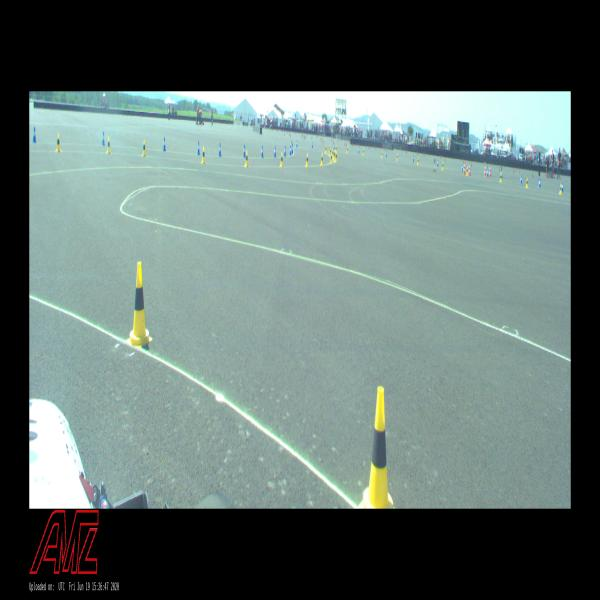blue_cone: (32, 127, 36, 143), (218, 143, 222, 156), (242, 145, 246, 158), (102, 131, 105, 146), (197, 141, 200, 155), (163, 137, 166, 151), (261, 145, 264, 158), (538, 178, 541, 188), (274, 146, 276, 157), (284, 146, 286, 156), (290, 146, 292, 156), (562, 182, 564, 192), (520, 175, 522, 184), (486, 169, 488, 177), (462, 164, 464, 172), (412, 154, 414, 162), (437, 159, 438, 166)
large_orange_cone: (468, 162, 471, 175), (463, 161, 466, 174), (484, 162, 486, 176), (489, 163, 491, 176)
yellow_cone: (358, 387, 394, 508), (126, 262, 152, 350), (56, 134, 61, 152), (106, 137, 111, 153), (142, 140, 146, 157), (202, 147, 206, 163), (245, 152, 248, 167), (320, 152, 323, 166), (280, 153, 283, 167), (559, 184, 562, 194), (306, 153, 308, 167), (441, 161, 444, 170), (330, 152, 332, 164), (500, 172, 502, 183), (335, 151, 337, 162), (526, 178, 528, 188), (466, 166, 468, 176), (346, 145, 348, 154), (325, 144, 327, 153), (332, 149, 334, 158), (329, 147, 331, 156), (417, 157, 419, 165), (396, 153, 398, 161), (381, 150, 383, 158), (334, 150, 335, 160), (363, 147, 364, 156)
